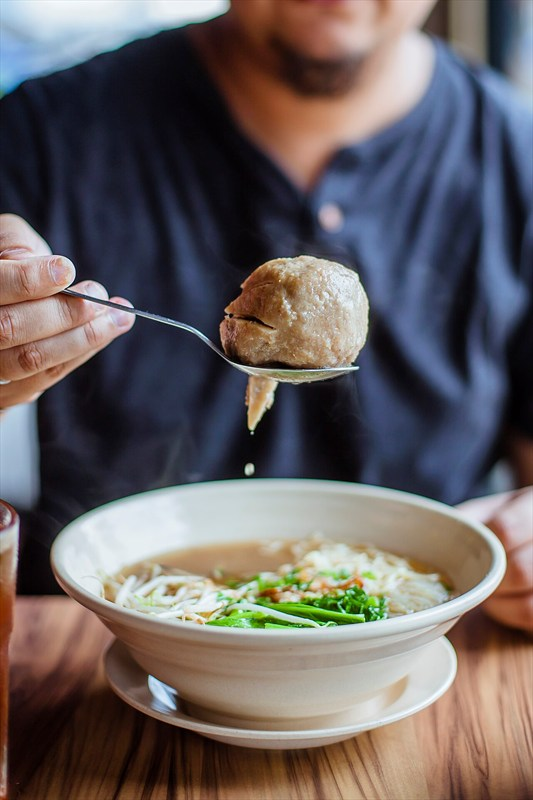Bakso: (25, 19, 508, 741)
